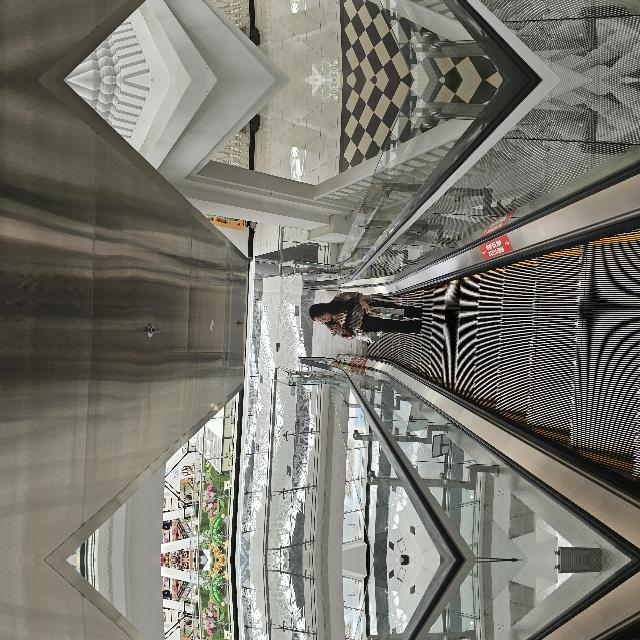door: (1, 81, 479, 640), (1, 401, 479, 640), (1, 0, 479, 79)
person: (220, 388, 268, 502), (220, 618, 268, 640)
stair: (80, 401, 331, 640), (80, 443, 331, 640)
